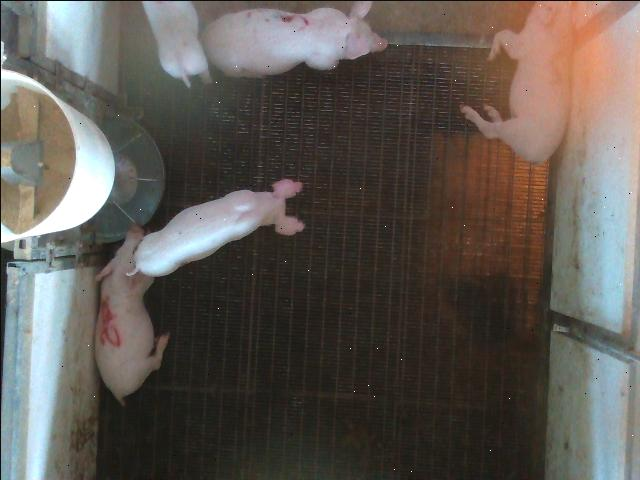pig-2: (460, 1, 569, 162)
pig-3: (201, 1, 386, 76)
pig-5: (94, 226, 169, 404)
